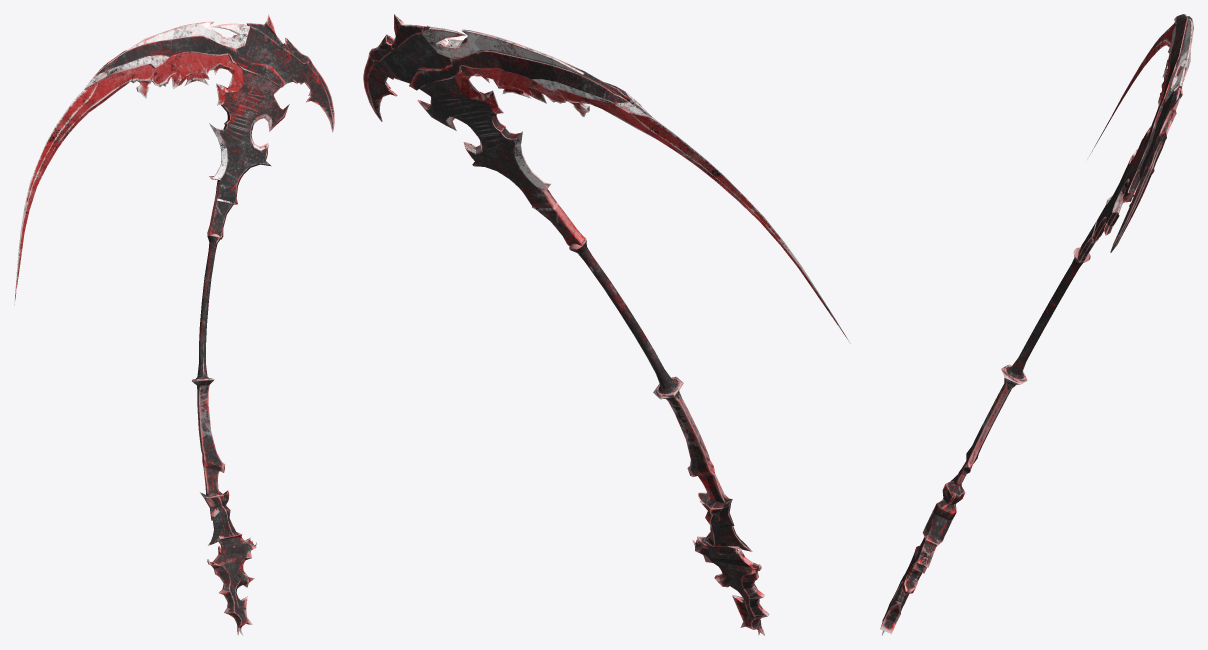
The model's file is free_-_desolate_devil_scythe_gameready.glb.
3 renders of one model, left to right at view 1: azimuth 30°, elevation 25°; view 2: azimuth 150°, elevation 25°; view 3: azimuth 270°, elevation 25°, orthographic. The views are drawn at different scales.
Visible parts, largest first — view 1: DesolatorLP; view 2: DesolatorLP; view 3: DesolatorLP.
Part boxes in pixels (<box>): DesolatorLP: <box>14,14,334,635</box>; DesolatorLP: <box>363,14,850,635</box>; DesolatorLP: <box>880,14,1193,635</box>.
Size of the model in its own units: 3.29 by 4.76 by 2.13.
1 material, 1 textured.
